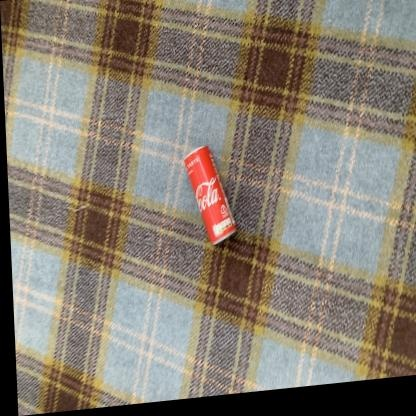trash: (184, 146, 235, 244)
